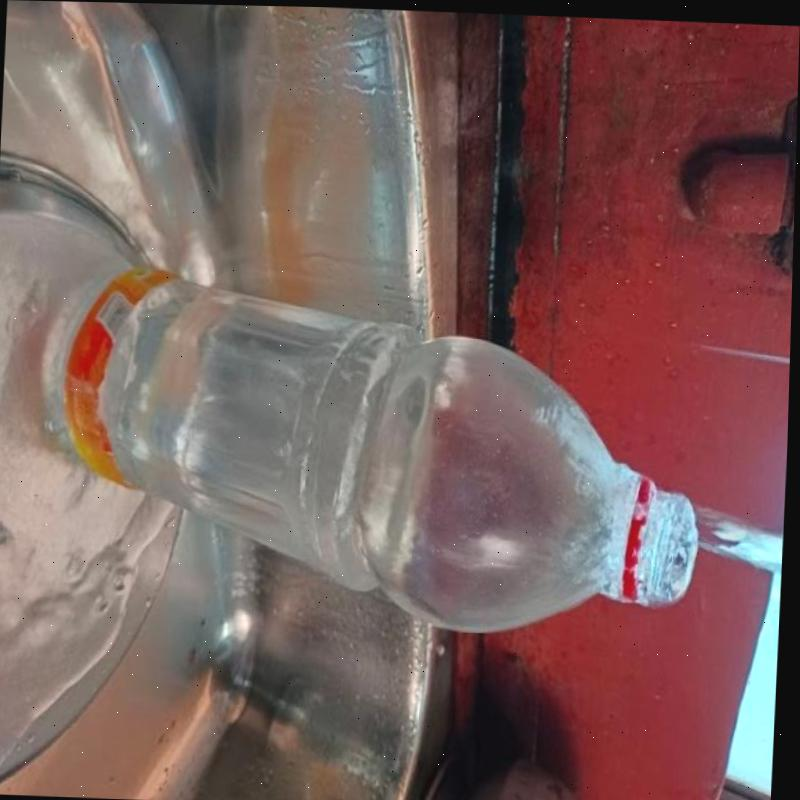botella: (37, 252, 703, 636)
